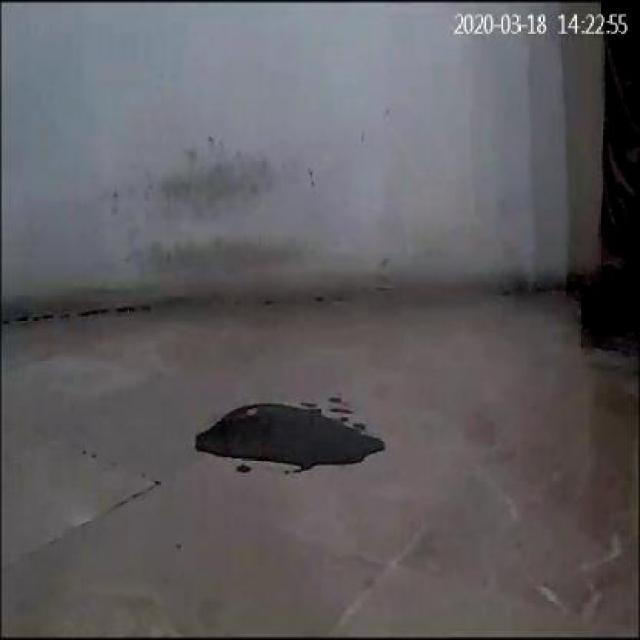spill: (189, 398, 386, 466)
